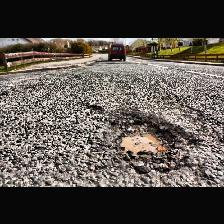pothole: (105, 110, 198, 176)
